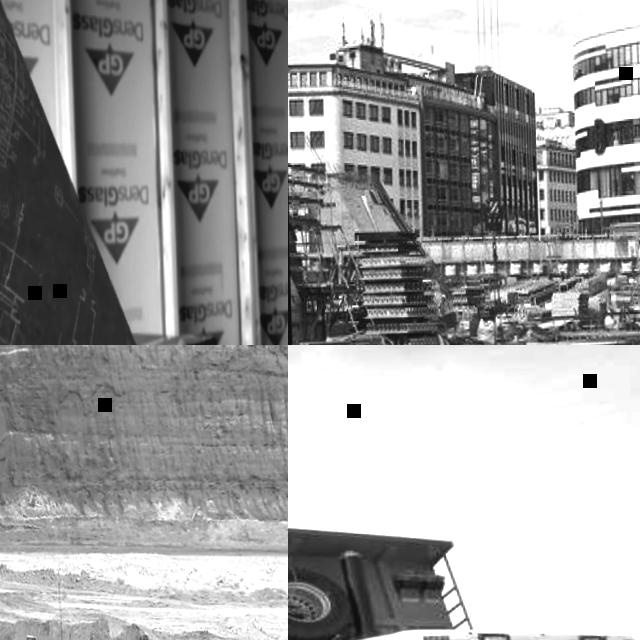Hardhat: (440, 293, 444, 299)
Person: (436, 294, 445, 317)
Safety Vest: (438, 301, 443, 315)
machinery: (288, 505, 640, 640), (0, 541, 217, 640)
